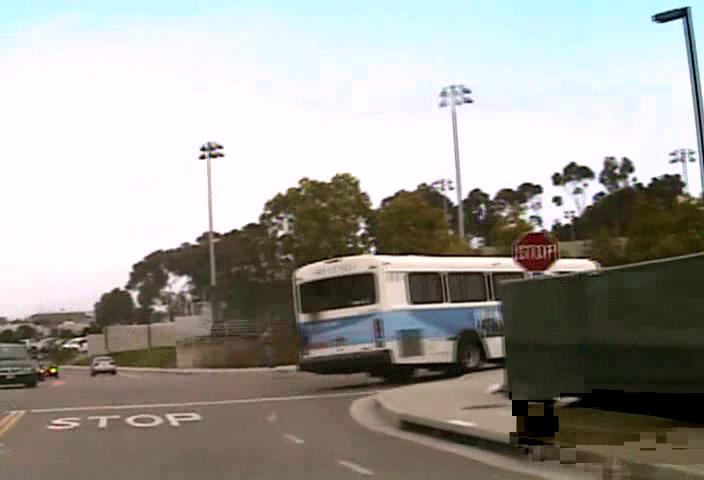stop: (512, 230, 559, 272)
